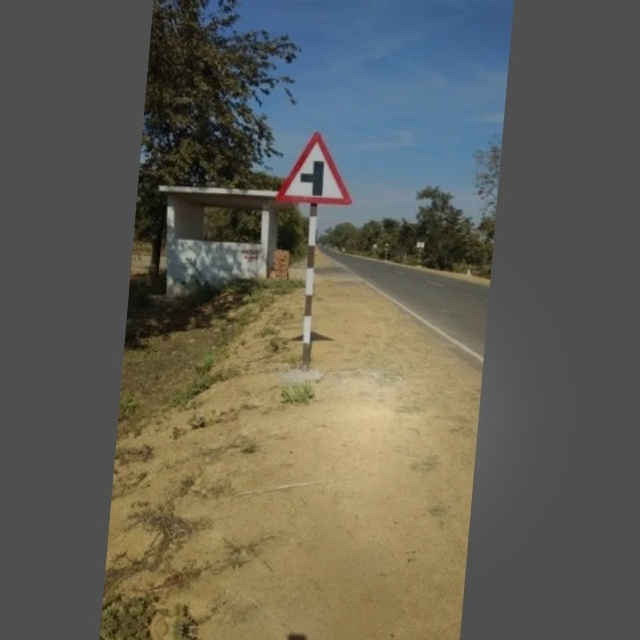Side_Road_Left: (273, 124, 360, 213)
